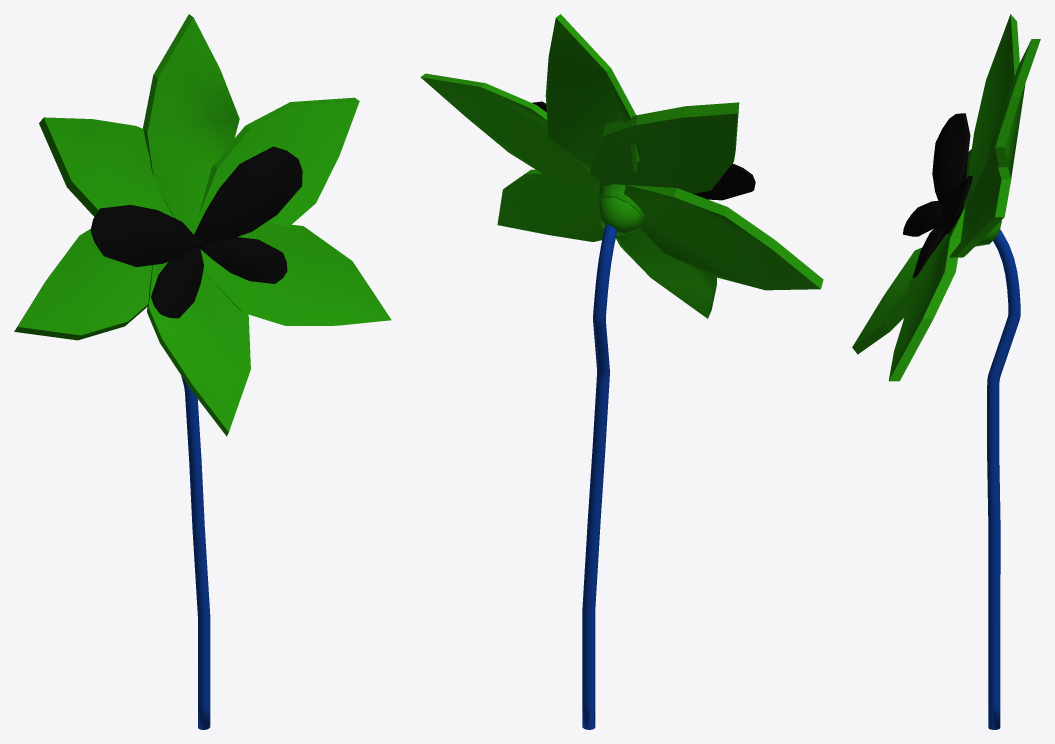
The model's file is ButterFlower_AD.fbx.
3 views of the same model, side by side, from view 1: azimuth 30°, elevation 25°; view 2: azimuth 150°, elevation 25°; view 3: azimuth 270°, elevation 25° (orthographic). The views are drawn at different scales.
Visible parts, largest first — view 1: ButterFlower_AD; view 2: ButterFlower_AD; view 3: ButterFlower_AD.
Boxes of the visible parts, left/top/right/bottom form: ButterFlower_AD: left=14, top=14, right=391, bottom=729; ButterFlower_AD: left=420, top=14, right=823, bottom=729; ButterFlower_AD: left=852, top=14, right=1040, bottom=729.
Bounding box in the file's own units: 22.07 × 40.44 × 9.98.
